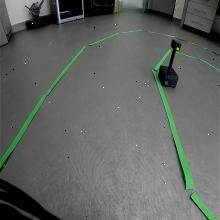green: (170, 38, 182, 52)
